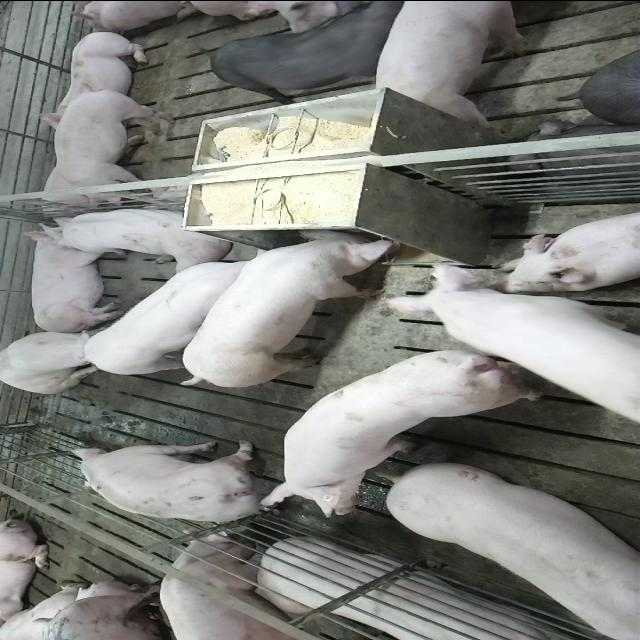Feeding: (175, 221, 408, 385)
Lateral_lying: (227, 536, 592, 640), (20, 223, 126, 333)
Sitting: (1, 325, 117, 393)
Standing: (265, 344, 553, 514), (383, 465, 640, 640), (79, 250, 279, 378), (370, 2, 536, 132), (208, 1, 420, 95), (70, 436, 283, 524), (52, 86, 182, 212), (161, 534, 305, 640)
Sternal_lying: (45, 202, 234, 266), (30, 30, 154, 126), (499, 202, 637, 288)
